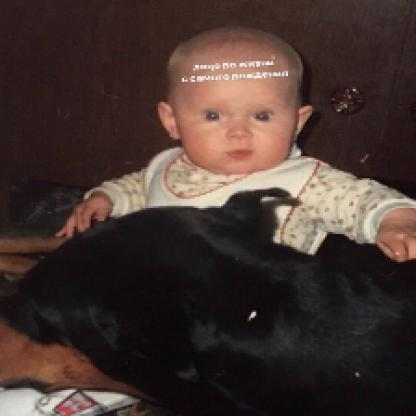child: (55, 23, 416, 265)
